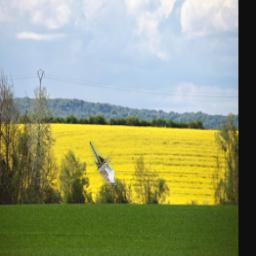Cuckoo: (90, 141, 117, 186)
